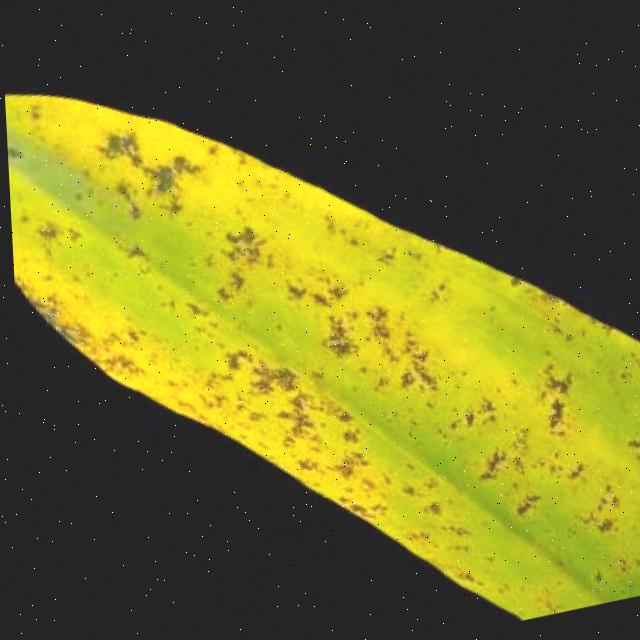mite: (140, 157, 175, 195), (501, 484, 540, 518), (28, 216, 56, 244), (6, 139, 22, 161)
spots: (3, 6, 640, 640)
